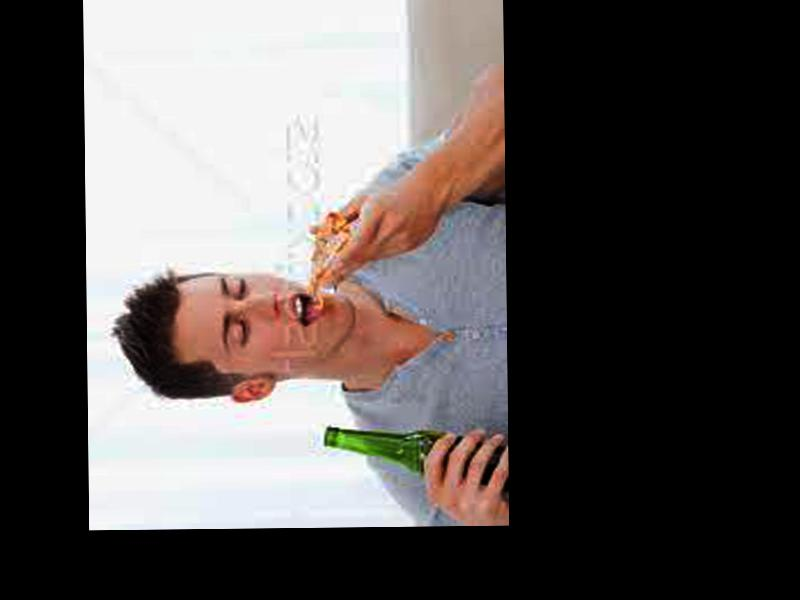Beer: (324, 424, 509, 495)
